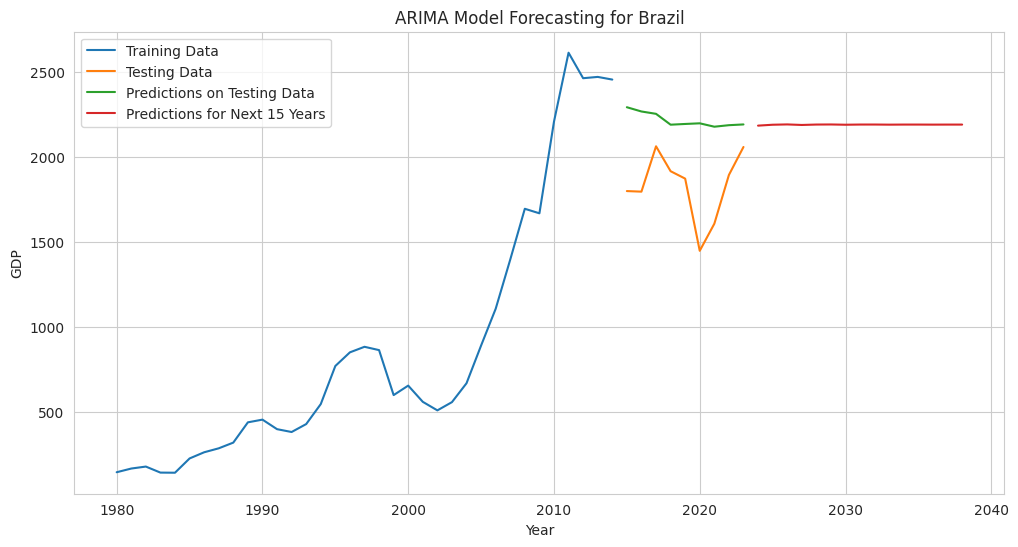

The dashboard page shown, as its layout file describes it:
{"tool":"tableau","page":{"name":"Brazil_Forecasting","canvas":[1000,800],"ordinal":3},"visuals":[{"type":"image","param":"/Users/David/Desktop/Final_Project_DI/Brazil_Forecasting.png","box":[8,8,984,784]}]}

Visuals, with their boxes on the page's 1000x800 design canvas (x1, y1, x2, y2). These are canvas units, not pixel positions in the 1018x547 screenshot, which may show the page scaled, cropped or inside an application window:
image: <bbox>8, 8, 992, 792</bbox>
